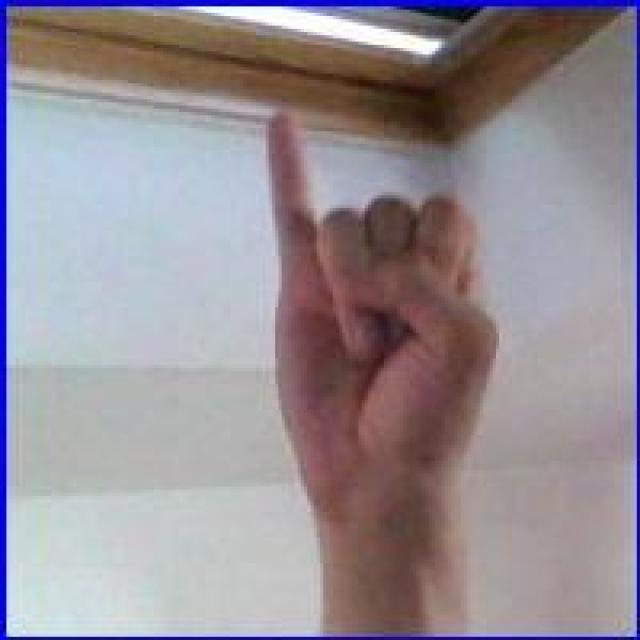I: (258, 107, 504, 520)
